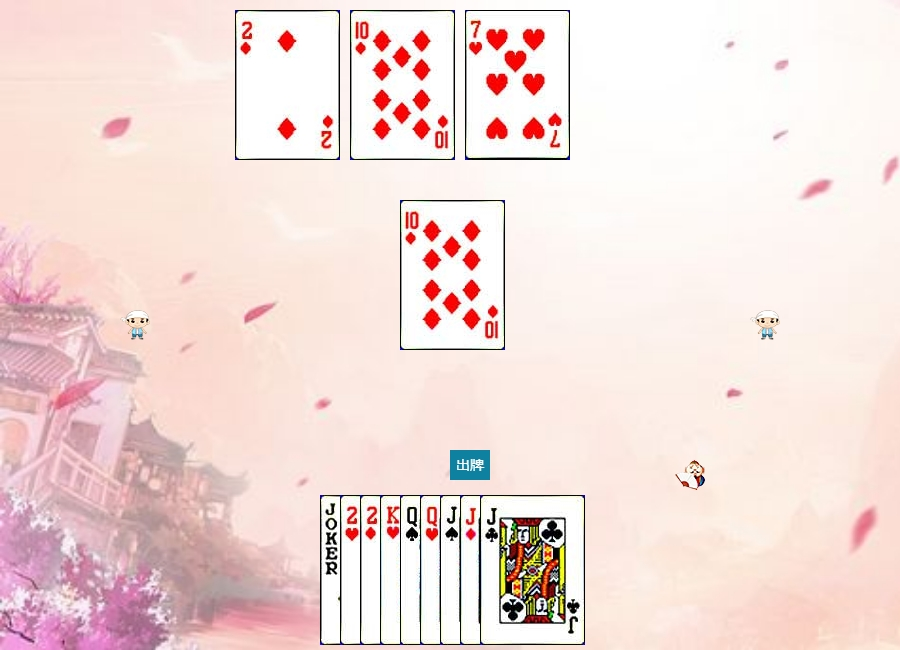10~1: (350, 10, 455, 160), (400, 200, 505, 350)
11~1: (460, 495, 565, 645)
11~2: (480, 495, 585, 645)
11~4: (440, 495, 545, 645)
12~3: (420, 495, 525, 645)
12~4: (400, 495, 505, 645)
13~3: (380, 495, 485, 645)
15~1: (235, 10, 340, 160), (360, 495, 465, 645)
15~3: (340, 495, 445, 645)
17~3: (320, 495, 425, 645)
7~3: (465, 10, 570, 160)
